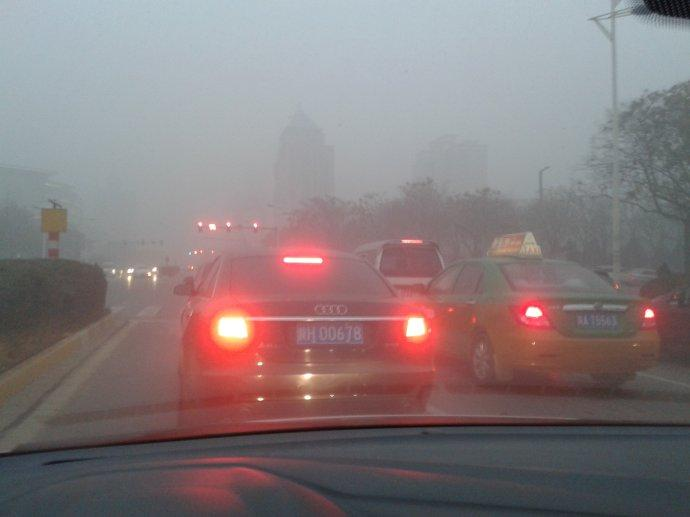car: (169, 247, 435, 428), (411, 230, 660, 394), (334, 241, 453, 323), (637, 275, 690, 359), (630, 265, 666, 289), (593, 263, 630, 284), (98, 261, 119, 278), (133, 265, 152, 279)
